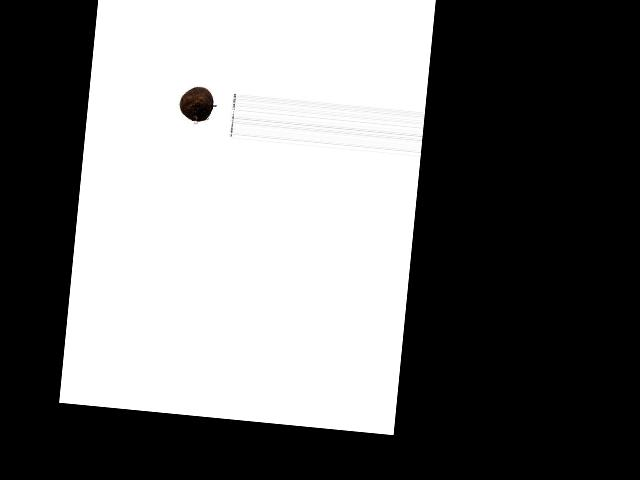beet: (178, 84, 214, 121)
